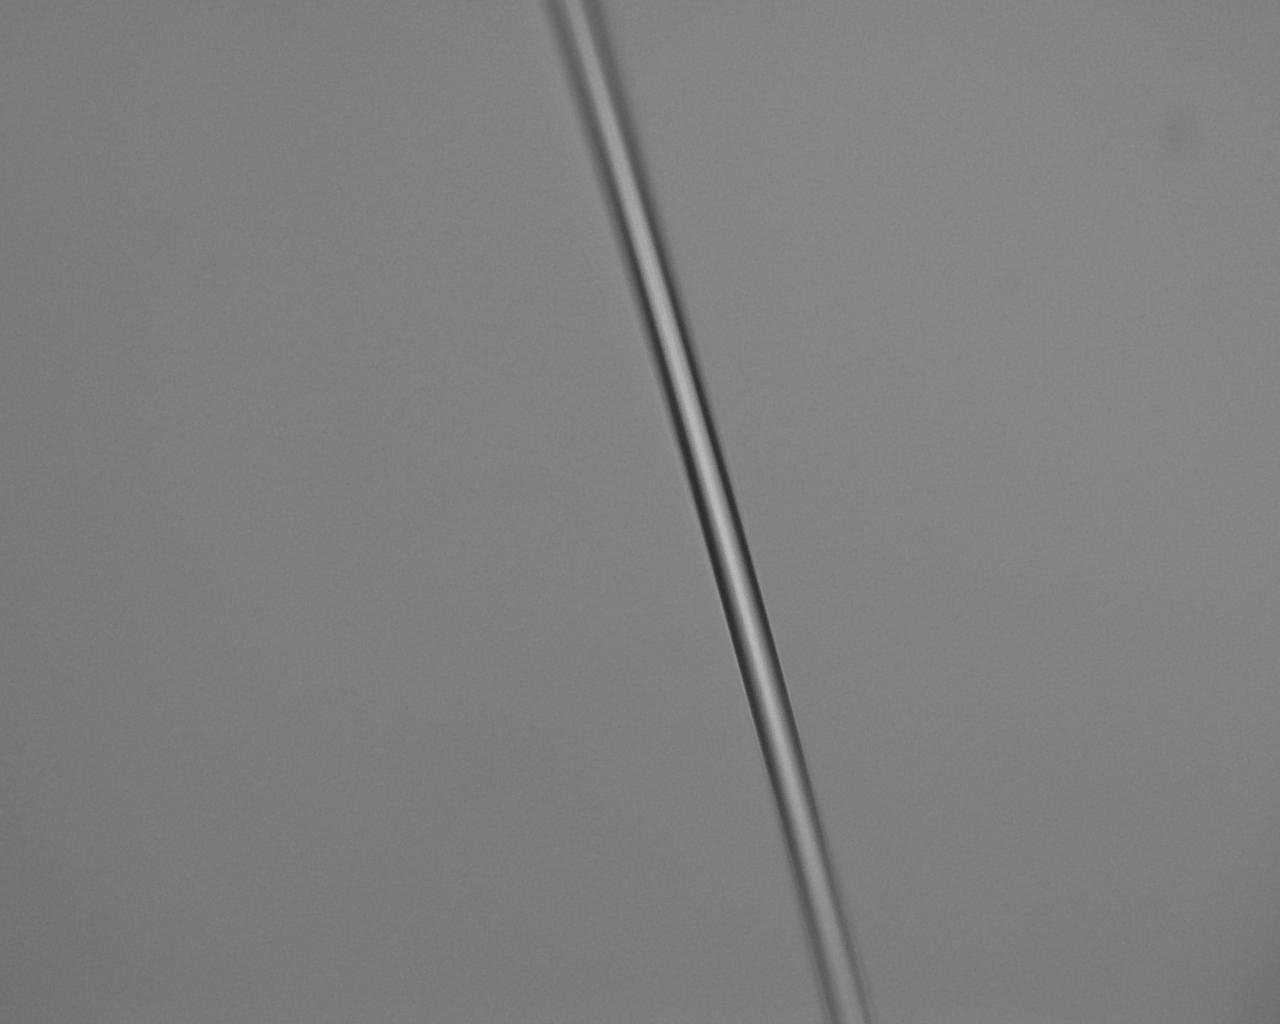fiber: (818, 0, 917, 1024)
